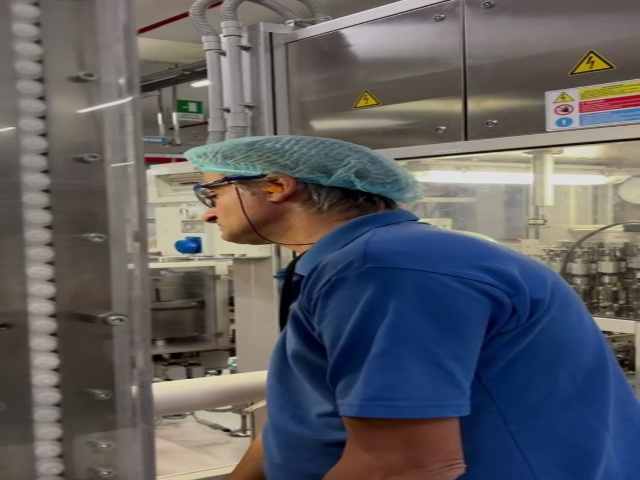Earplug: (259, 174, 297, 206)
Hairnet: (188, 136, 422, 202)
No_Helmet: (185, 136, 414, 174)
No_Vest: (268, 219, 616, 480)
Person: (185, 137, 640, 480)
Safety_Goggles: (189, 174, 271, 207)
